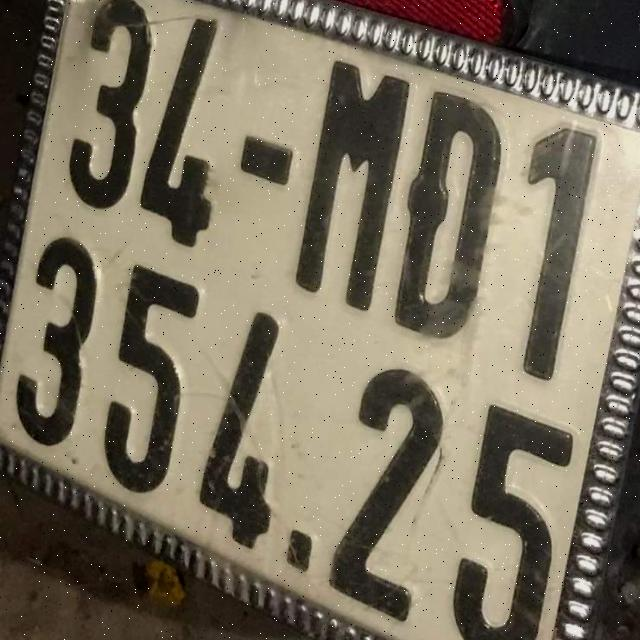1: (509, 118, 603, 384)
2: (322, 358, 446, 626)
3: (61, 0, 153, 214), (12, 231, 99, 448)
4: (195, 301, 288, 553), (140, 9, 227, 250)
5: (447, 391, 574, 639), (96, 253, 200, 501)
D: (392, 87, 507, 342)
M: (294, 49, 406, 309)
